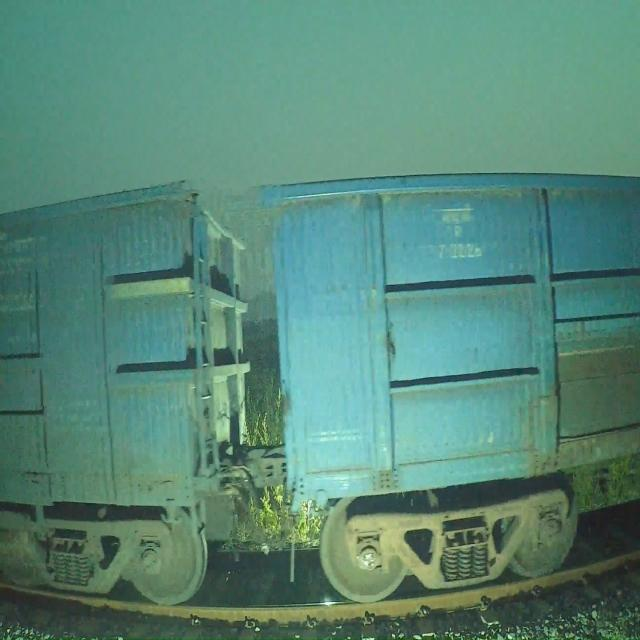WAgon-uic: (254, 165, 640, 606), (0, 177, 261, 612)
